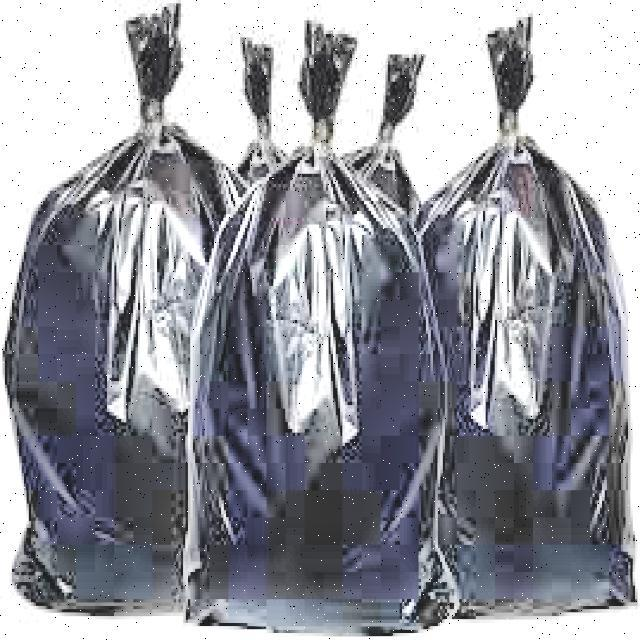Trashbag: (189, 164, 442, 629), (12, 136, 216, 609), (416, 153, 618, 598)
